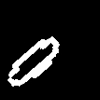chain: (8, 37, 58, 85)
